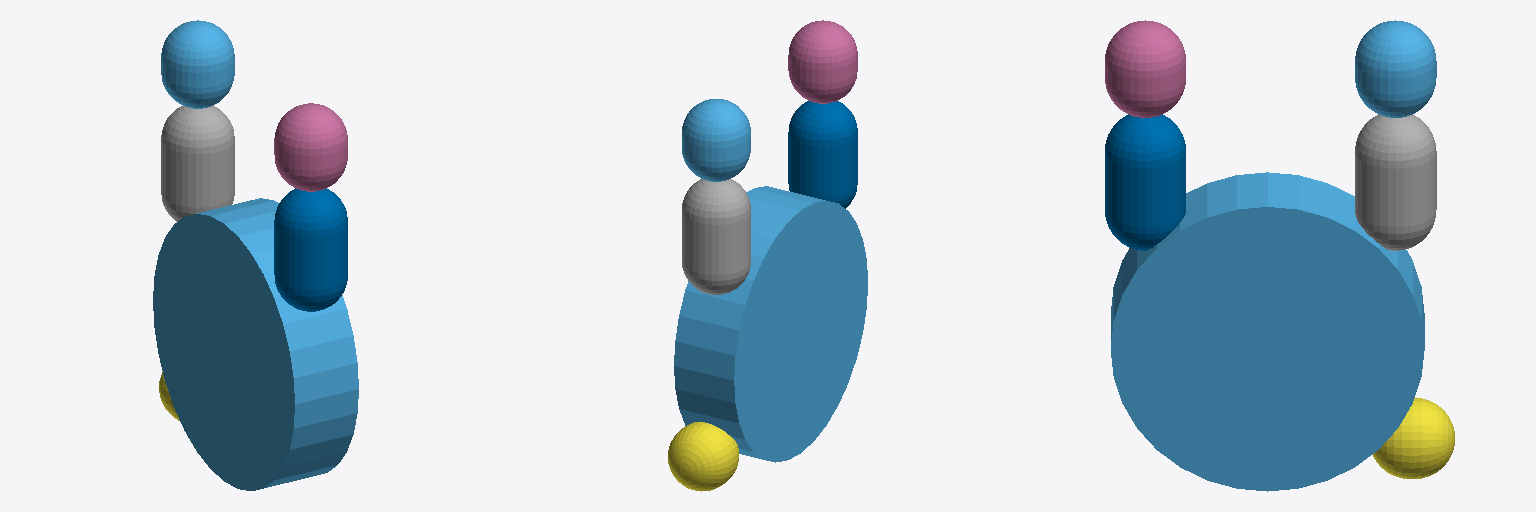
The robot description file, URDF, robot "DexterousHand":
<?xml version="1.0"?>
<robot name="DexterousHand">


    <link name="world"/>
    <joint name="world_to_palm" type="fixed">
        <parent link="world"/>
        <child link="palm"/>
        <origin xyz="0 0 0" rpy="0 0 0"/>
    </joint>
    <link name="palm">
        <inertial>
            <origin xyz="0 0 0.057" rpy="0 0 0"/>
            <mass value="0.30212892864"/>
            <inertia ixx="0.00049080844457568" ixy="0.0" ixz="0.0" iyy="0.00026746366246427523" iyz="0.0" izz="0.00026746366246427523"/>
        </inertial>
        <visual>
            <origin xyz="0 0 0.057" rpy="1.5708 0 1.5708"/>
            <geometry>
                <cylinder radius="0.057" length="0.0296"/>
            </geometry>
            <material name="default"/>
        </visual>
        <collision>
            <origin xyz="0 0 0.057" rpy="1.5708 0 1.5708"/>
            <geometry>
                <cylinder radius="0.057" length="0.0296"/>
            </geometry>
        </collision>
    </link>

    
    <joint name="thumb_joint1" type="revolute">
        <parent link="palm"/>
        <child link="thumb_base"/>
        <origin xyz="0.0029 0.0368 0.0157" rpy="-1.5708 -1.5708 0.0"/>
        <axis xyz="-1 0 0"/>
        <limit lower="-0.349" upper="2.094" effort="1.0" velocity="1.0"/>
    </joint>

    <link name="thumb_base"></link>

    <joint name="thumb_joint2" type="revolute">
        <parent link="thumb_base"/>
        <child link="thumb_proximal"/>
        <origin xyz="0.0 0.0 0.0" rpy="0.0 0.0 0.0"/>
        <axis xyz="0 0 1"/>
        <limit lower="-0.47" upper="2.443" effort="1.0" velocity="1.0"/>
    </joint>

    <link name="thumb_proximal">
        <inertial>
            <origin xyz="0 0 0.01565" rpy="0 0 0"/>
            <mass value="0.021538658803200002"/>
            <inertia ixx="2.9378910096388167e-06" ixy="0.0" ixz="0.0" 
            iyy="2.9378910096388167e-06" iyz="0.0" izz="2.358913912126464e-06"/>
        </inertial>
        <visual>
            <origin xyz="0 0 0.01565" rpy="0 0 0"/>
            <geometry>
                <cylinder radius="0.0148" length="0.0017000000000000001"/>
            </geometry>
            <material name="default"/>
        </visual>
        <visual>
            <origin xyz="0 0 0.0148" rpy="0 0 0"/>
            <geometry>
                <sphere radius="0.0148"/>
            </geometry>
            <material name="default"/>
        </visual>
        <visual>
            <origin xyz="0 0 0.0165" rpy="0 0 0"/>
            <geometry>
                <sphere radius="0.0148"/>
            </geometry>
            <material name="default"/>
        </visual>
        <collision>
            <origin xyz="0 0 0.01565" rpy="0 0 0"/>
            <geometry>
                <cylinder radius="0.0148" length="0.0017000000000000001"/>
            </geometry>
        </collision>
        <collision>
            <origin xyz="0 0 0.0148" rpy="0 0 0"/>
            <geometry>
                <sphere radius="0.0148"/>
            </geometry>
        </collision>
        <collision>
            <origin xyz="0 0 0.0165" rpy="0 0 0"/>
            <geometry>
                <sphere radius="0.0148"/>
            </geometry>
        </collision>
    </link>

    <joint name="thumb_joint3" type="revolute">
        <parent link="thumb_proximal"/>
        <child link="thumb_knuckle"/>
        <origin xyz="0.0 0.0 0.0" rpy="0.0 0.0 0.0"/>
        <axis xyz="1 0 0"/>
        <limit lower="0.0" upper="0.0" effort="1.0" velocity="1.0"/>
    </joint>

    <link name="thumb_knuckle"></link>

    <joint name="thumb_joint4" type="revolute">
        <parent link="thumb_knuckle"/>
        <child link="thumb_middle"/>
        <origin xyz="0 0 0" rpy="0 0 0"/> 
        <axis xyz="0 1 0"/>
        <limit lower="0.0" upper="0.0" effort="1.0" velocity="1.0"/>
    </joint>

    <link name="thumb_middle">
    </link>

    <joint name="thumb_joint5" type="revolute">
        <parent link="thumb_middle"/>
        <child link="thumb_distal"/>
        <origin xyz="0 0 0" rpy="0 0 0"/> 
        <axis xyz="0 1 0"/>
        <limit lower="0.0" upper="0.0" effort="1.0" velocity="1.0"/>
    </joint>

    <link name="thumb_distal">
    </link>

    
    <joint name="index_joint1" type="revolute">
        <parent link="palm"/>
        <child link="index_proximal"/>
        <origin xyz="0.0 0.0465 0.091" rpy="0.0 0.0 0.0"/>
        <axis xyz="0 1 0"/>
        <limit lower="-0.314" upper="2.23" effort="1.0" velocity="1.0"/>
    </joint>

    <link name="index_proximal">
        <inertial>
            <origin xyz="0 0 0.02655" rpy="0 0 0"/>
            <mass value="0.036540024998400006"/>
            <inertia ixx="1.058665009272394e-05" ixy="0.0" ixz="0.0" 
            iyy="1.058665009272394e-05" iyz="0.0" izz="4.001863537824769e-06"/>
        </inertial>
        <visual>
            <origin xyz="0 0 0.02655" rpy="0 0 0"/>
            <geometry>
                <cylinder radius="0.0148" length="0.0235"/>
            </geometry>
            <material name="default"/>
        </visual>
        <visual>
            <origin xyz="0 0 0.0148" rpy="0 0 0"/>
            <geometry>
                <sphere radius="0.0148"/>
            </geometry>
            <material name="default"/>
        </visual>
        <visual>
            <origin xyz="0 0 0.0383" rpy="0 0 0"/>
            <geometry>
                <sphere radius="0.0148"/>
            </geometry>
            <material name="default"/>
        </visual>
        <collision>
            <origin xyz="0 0 0.02655" rpy="0 0 0"/>
            <geometry>
                <cylinder radius="0.0148" length="0.0235"/>
            </geometry>
        </collision>
        <collision>
            <origin xyz="0 0 0.0148" rpy="0 0 0"/>
            <geometry>
                <sphere radius="0.0148"/>
            </geometry>
        </collision>
        <collision>
            <origin xyz="0 0 0.0383" rpy="0 0 0"/>
            <geometry>
                <sphere radius="0.0148"/>
            </geometry>
        </collision>
    </link>

    <joint name="index_joint2" type="revolute">
        <parent link="index_proximal"/>
        <child link="index_dummy"/>
        <origin xyz="0.0 0.0 0.038" rpy="0.0 0.0 0.0"/>
        <axis xyz="1 0 0"/>
        <limit lower="-1.047" upper="1.047" effort="1.0" velocity="1.0"/>
    </joint>

    <link name="index_dummy"></link>

    <joint name="index_joint3" type="revolute">
        <parent link="index_dummy"/>
        <child link="index_middle"/>
        <origin xyz="0 0 0.015100000000000002" rpy="0 0 0"/>
        <axis xyz="0 1 0"/>
        <limit lower="-0.506" upper="1.885" effort="1.0" velocity="1.0"/>
    </joint>

    <link name="index_middle">
        <inertial>
            <origin xyz="0 0 0.01805" rpy="0 0 0"/>
            <mass value="0.0248417119104"/>
            <inertia ixx="4.058162759109537e-06" ixy="0.0" ixz="0.0" 
            iyy="4.058162759109537e-06" iyz="0.0" izz="2.7206642884270085e-06"/>
        </inertial>
        <visual>
            <origin xyz="0 0 0.01805" rpy="0 0 0"/>
            <geometry>
                <cylinder radius="0.0148" length="0.006499999999999999"/>
            </geometry>
            <material name="default"/>
        </visual>
        <visual>
            <origin xyz="0 0 0.0148" rpy="0 0 0"/>
            <geometry>
                <sphere radius="0.0148"/>
            </geometry>
            <material name="default"/>
        </visual>
        <visual>
            <origin xyz="0 0 0.0213" rpy="0 0 0"/>
            <geometry>
                <sphere radius="0.0148"/>
            </geometry>
            <material name="default"/>
        </visual>
        <collision>
            <origin xyz="0 0 0.01805" rpy="0 0 0"/>
            <geometry>
                <cylinder radius="0.0148" length="0.006499999999999999"/>
            </geometry>
        </collision>
        <collision>
            <origin xyz="0 0 0.0148" rpy="0 0 0"/>
            <geometry>
                <sphere radius="0.0148"/>
            </geometry>
        </collision>
        <collision>
            <origin xyz="0 0 0.0213" rpy="0 0 0"/>
            <geometry>
                <sphere radius="0.0148"/>
            </geometry>
        </collision>
    </link>

    <joint name="index_joint4" type="revolute">
        <parent link="index_middle"/>
        <child link="index_distal"/>
        <origin xyz="0 0 0.0361" rpy="0 0 0"/> 
        <axis xyz="0 1 0"/>
        <limit lower="0.0" upper="0.0" effort="1.0" velocity="1.0"/>
    </joint>

    <link name="index_distal">
    </link>

    
    <joint name="middle_joint1" type="revolute">
        <parent link="palm"/>
        <child link="middle_proximal"/>
        <origin xyz="0.0 0.0 0.0" rpy="0.0 0.0 0.0"/>
        <axis xyz="1 0 0"/>
        <limit lower="0.0" upper="0.0" effort="1.0" velocity="1.0"/>
    </joint>

    <link name="middle_proximal">
    </link>

    <joint name="middle_joint2" type="revolute">
        <parent link="middle_proximal"/>
        <child link="middle_dummy"/>
        <origin xyz="0.0 0.0 0.0" rpy="0.0 0.0 0.0"/>
        <axis xyz="0 1 0"/>
        <limit lower="0.0" upper="0.0" effort="1.0" velocity="1.0"/>
    </joint>

    <link name="middle_dummy"></link>

    <joint name="middle_joint3" type="revolute">
        <parent link="middle_dummy"/>
        <child link="middle_middle"/>
        <origin xyz="0 0 0" rpy="0 0 0"/>
        <axis xyz="0 1 0"/>
        <limit lower="0.0" upper="0.0" effort="1.0" velocity="1.0"/>
    </joint>

    <link name="middle_middle">
    </link>

    <joint name="middle_joint4" type="revolute">
        <parent link="middle_middle"/>
        <child link="middle_distal"/>
        <origin xyz="0 0 0" rpy="0 0 0"/> 
        <axis xyz="0 1 0"/>
        <limit lower="0.0" upper="0.0" effort="1.0" velocity="1.0"/>
    </joint>

    <link name="middle_distal">
    </link>

    
    <joint name="ring_joint1" type="revolute">
        <parent link="palm"/>
        <child link="ring_proximal"/>
        <origin xyz="0.0 0.0 0.0" rpy="0.0 0.0 0.0"/>
        <axis xyz="1 0 0"/>
        <limit lower="0.0" upper="0.0" effort="1.0" velocity="1.0"/>
    </joint>

    <link name="ring_proximal">
    </link>

    <joint name="ring_joint2" type="revolute">
        <parent link="ring_proximal"/>
        <child link="ring_dummy"/>
        <origin xyz="0.0 0.0 0.0" rpy="0.0 0.0 0.0"/>
        <axis xyz="0 1 0"/>
        <limit lower="0.0" upper="0.0" effort="1.0" velocity="1.0"/>
    </joint>

    <link name="ring_dummy"></link>

    <joint name="ring_joint3" type="revolute">
        <parent link="ring_dummy"/>
        <child link="ring_middle"/>
        <origin xyz="0 0 0" rpy="0 0 0"/>
        <axis xyz="0 1 0"/>
        <limit lower="0.0" upper="0.0" effort="1.0" velocity="1.0"/>
    </joint>

    <link name="ring_middle">
    </link>

    <joint name="ring_joint4" type="revolute">
        <parent link="ring_middle"/>
        <child link="ring_distal"/>
        <origin xyz="0 0 0" rpy="0 0 0"/> 
        <axis xyz="0 1 0"/>
        <limit lower="0.0" upper="0.0" effort="1.0" velocity="1.0"/>
    </joint>

    <link name="ring_distal">
    </link>

    
    <joint name="little_joint0" type="revolute">
        <parent link="palm"/>
        <child link="little_base"/>
        <origin xyz="0.0 0.0 0.0" rpy="0.0 0.0 0.0"/>
        <axis xyz="0 1 0"/>
        <limit lower="0.0" upper="0.0" effort="1.0" velocity="1.0"/>
    </joint>

    <link name="little_base"></link>

    <joint name="little_joint1" type="revolute">
        <parent link="little_base"/>
        <child link="little_proximal"/>
        <origin xyz="0.0 -0.0443 0.091" rpy="-0.0 -0.0 -0.0"/>
        <axis xyz="0 1 0"/>
        <limit lower="-0.314" upper="2.23" effort="1.0" velocity="1.0"/>
    </joint>

    <link name="little_proximal">
        <inertial>
            <origin xyz="0 0 0.02655" rpy="0 0 0"/>
            <mass value="0.036540024998400006"/>
            <inertia ixx="1.058665009272394e-05" ixy="0.0" ixz="0.0" 
            iyy="1.058665009272394e-05" iyz="0.0" izz="4.001863537824769e-06"/>
        </inertial>
        <visual>
            <origin xyz="0 0 0.02655" rpy="0 0 0"/>
            <geometry>
                <cylinder radius="0.0148" length="0.0235"/>
            </geometry>
            <material name="default"/>
        </visual>
        <visual>
            <origin xyz="0 0 0.0148" rpy="0 0 0"/>
            <geometry>
                <sphere radius="0.0148"/>
            </geometry>
            <material name="default"/>
        </visual>
        <visual>
            <origin xyz="0 0 0.0383" rpy="0 0 0"/>
            <geometry>
                <sphere radius="0.0148"/>
            </geometry>
            <material name="default"/>
        </visual>
        <collision>
            <origin xyz="0 0 0.02655" rpy="0 0 0"/>
            <geometry>
                <cylinder radius="0.0148" length="0.0235"/>
            </geometry>
        </collision>
        <collision>
            <origin xyz="0 0 0.0148" rpy="0 0 0"/>
            <geometry>
                <sphere radius="0.0148"/>
            </geometry>
        </collision>
        <collision>
            <origin xyz="0 0 0.0383" rpy="0 0 0"/>
            <geometry>
                <sphere radius="0.0148"/>
            </geometry>
        </collision>
    </link>

    <joint name="little_joint2" type="revolute">
        <parent link="little_proximal"/>
        <child link="little_dummy"/>
        <origin xyz="0.0 0.0 0.038" rpy="0.0 0.0 0.0"/>
        <axis xyz="1 0 0"/>
        <limit lower="-1.047" upper="1.047" effort="1.0" velocity="1.0"/>
    </joint>

    <link name="little_dummy"></link>

    <joint name="little_joint3" type="revolute">
        <parent link="little_dummy"/>
        <child link="little_middle"/>
        <origin xyz="0 0 0.015100000000000002" rpy="0 0 0"/>
        <axis xyz="0 1 0"/>
        <limit lower="-0.506" upper="1.885" effort="1.0" velocity="1.0"/>
    </joint>

    <link name="little_middle">
        <inertial>
            <origin xyz="0 0 0.01805" rpy="0 0 0"/>
            <mass value="0.0248417119104"/>
            <inertia ixx="4.058162759109537e-06" ixy="0.0" ixz="0.0" 
            iyy="4.058162759109537e-06" iyz="0.0" izz="2.7206642884270085e-06"/>
        </inertial>
        <visual>
            <origin xyz="0 0 0.01805" rpy="0 0 0"/>
            <geometry>
                <cylinder radius="0.0148" length="0.006499999999999999"/>
            </geometry>
            <material name="default"/>
        </visual>
        <visual>
            <origin xyz="0 0 0.0148" rpy="0 0 0"/>
            <geometry>
                <sphere radius="0.0148"/>
            </geometry>
            <material name="default"/>
        </visual>
        <visual>
            <origin xyz="0 0 0.0213" rpy="0 0 0"/>
            <geometry>
                <sphere radius="0.0148"/>
            </geometry>
            <material name="default"/>
        </visual>
        <collision>
            <origin xyz="0 0 0.01805" rpy="0 0 0"/>
            <geometry>
                <cylinder radius="0.0148" length="0.006499999999999999"/>
            </geometry>
        </collision>
        <collision>
            <origin xyz="0 0 0.0148" rpy="0 0 0"/>
            <geometry>
                <sphere radius="0.0148"/>
            </geometry>
        </collision>
        <collision>
            <origin xyz="0 0 0.0213" rpy="0 0 0"/>
            <geometry>
                <sphere radius="0.0148"/>
            </geometry>
        </collision>
    </link>

    <joint name="little_joint4" type="revolute">
        <parent link="little_middle"/>
        <child link="little_distal"/>
        <origin xyz="0 0 0.0361" rpy="0 0 0"/>
        <axis xyz="0 1 0"/>
        <limit lower="0.0" upper="0.0" effort="1.0" velocity="1.0"/>
    </joint>

    <link name="little_distal">
    </link>

</robot>

--- What the picture shows (computed from the rendered views, not written in the file) ---
The picture shows the robot from 3 angles, left to right: view 1: azimuth 30°, elevation 25°; view 2: azimuth 150°, elevation 25°; view 3: azimuth 270°, elevation 25°; orthographic projection.
Model DexterousHand with 24 links and 23 joints (22 revolute, 1 fixed), rooted at world, posed all joints at 0.
Visible links, largest first — view 1: palm, little_proximal, index_proximal, little_middle, index_middle; view 2: palm, index_proximal, little_proximal, little_middle, index_middle, thumb_proximal; view 3: palm, index_proximal, little_proximal, index_middle, little_middle, thumb_proximal.
Link boxes in pixels (box(x1,y1,x2,y2)): palm: box(153, 198, 358, 490); little_proximal: box(274, 188, 347, 311); index_proximal: box(161, 105, 234, 221); little_middle: box(274, 103, 347, 191); index_middle: box(161, 20, 234, 108); palm: box(674, 186, 867, 462); index_proximal: box(682, 179, 750, 294); little_proximal: box(788, 101, 857, 208); little_middle: box(788, 20, 857, 103); index_middle: box(682, 99, 750, 181); thumb_proximal: box(668, 422, 738, 491); palm: box(1111, 172, 1424, 491); index_proximal: box(1355, 114, 1436, 250); little_proximal: box(1105, 114, 1185, 250); index_middle: box(1355, 20, 1436, 117); little_middle: box(1105, 20, 1185, 117); thumb_proximal: box(1372, 398, 1454, 478).
Bounding box of the posed robot: 0.0325 × 0.1272 × 0.1802 m (x, y, z).
Geometry: primitives only (box / cylinder / sphere), no mesh files.
